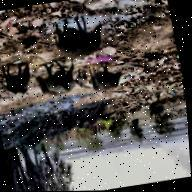boar: (51, 11, 109, 61), (29, 53, 83, 101), (82, 55, 132, 96), (0, 56, 40, 101)
